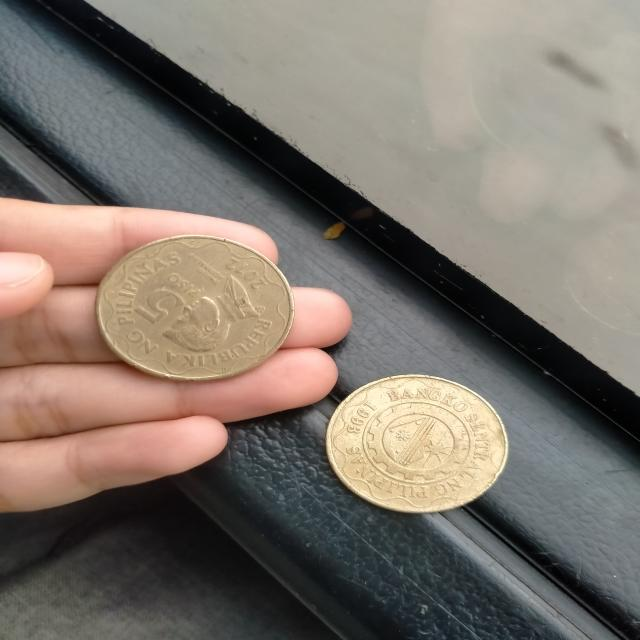5_Old_Back: (326, 367, 514, 515)
5_Old_Front: (127, 268, 202, 334)
